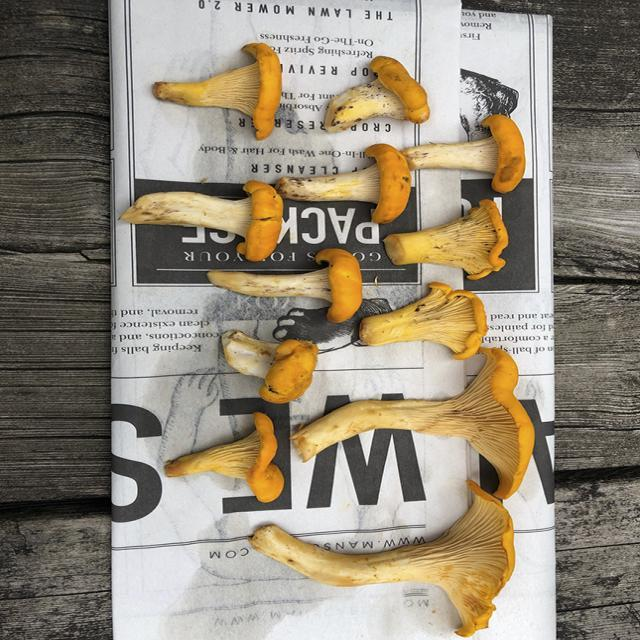Cantharellus cibarius: (253, 487, 511, 630), (299, 355, 534, 491), (120, 174, 283, 256), (154, 41, 280, 136), (403, 111, 535, 191), (164, 413, 284, 500), (205, 248, 360, 315), (392, 194, 508, 280), (356, 283, 487, 357), (292, 146, 413, 220), (221, 330, 317, 409), (325, 60, 426, 131)
